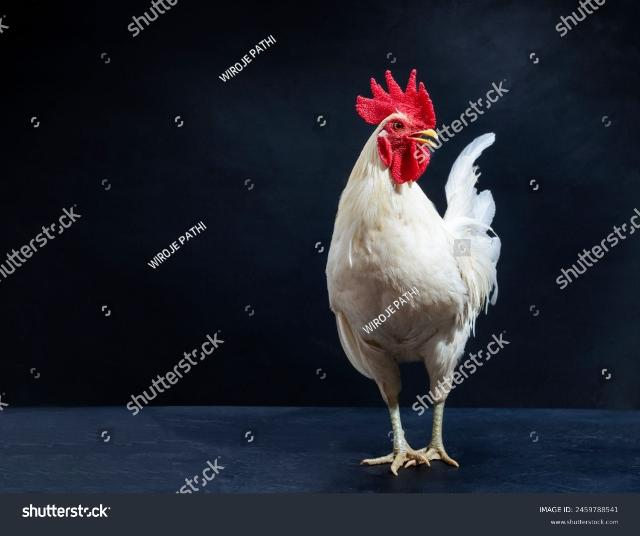Chicken: (323, 65, 503, 475)
